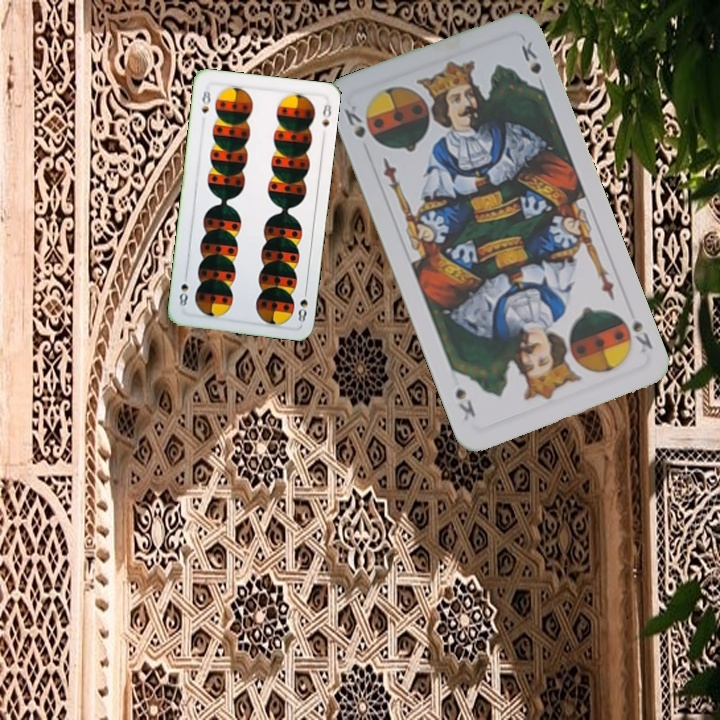S8: (294, 284, 311, 325), (198, 83, 213, 116)
SK: (614, 309, 655, 356), (340, 101, 368, 141)
